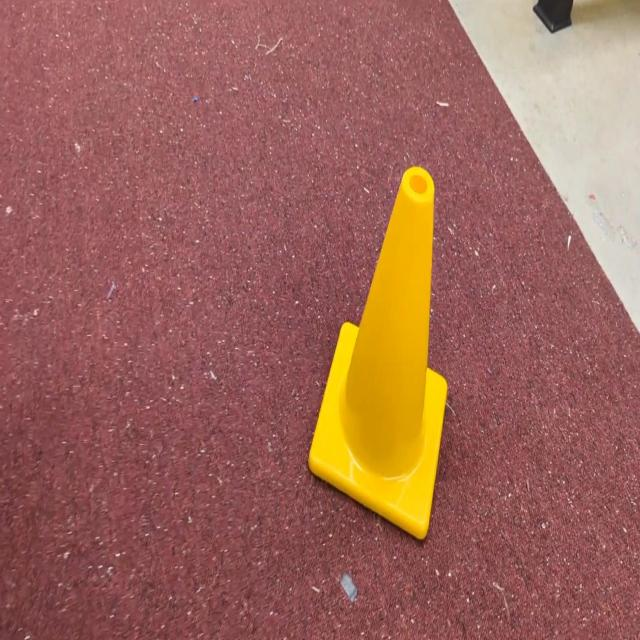frc_cone: (306, 158, 451, 544)
